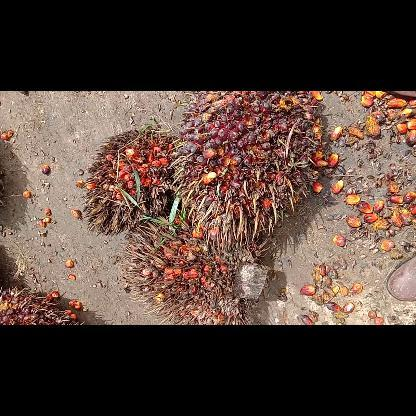TBS masak: (167, 91, 328, 252)
Terlalu masak: (120, 210, 270, 324), (80, 127, 176, 235)
